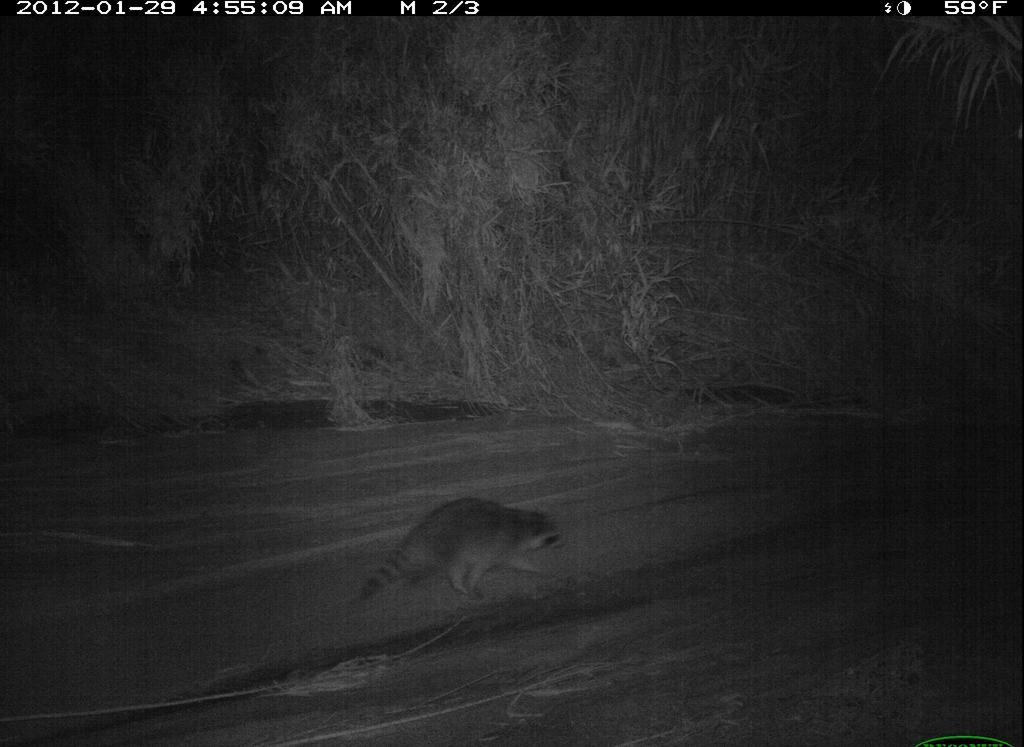raccoon: (347, 483, 593, 628)
